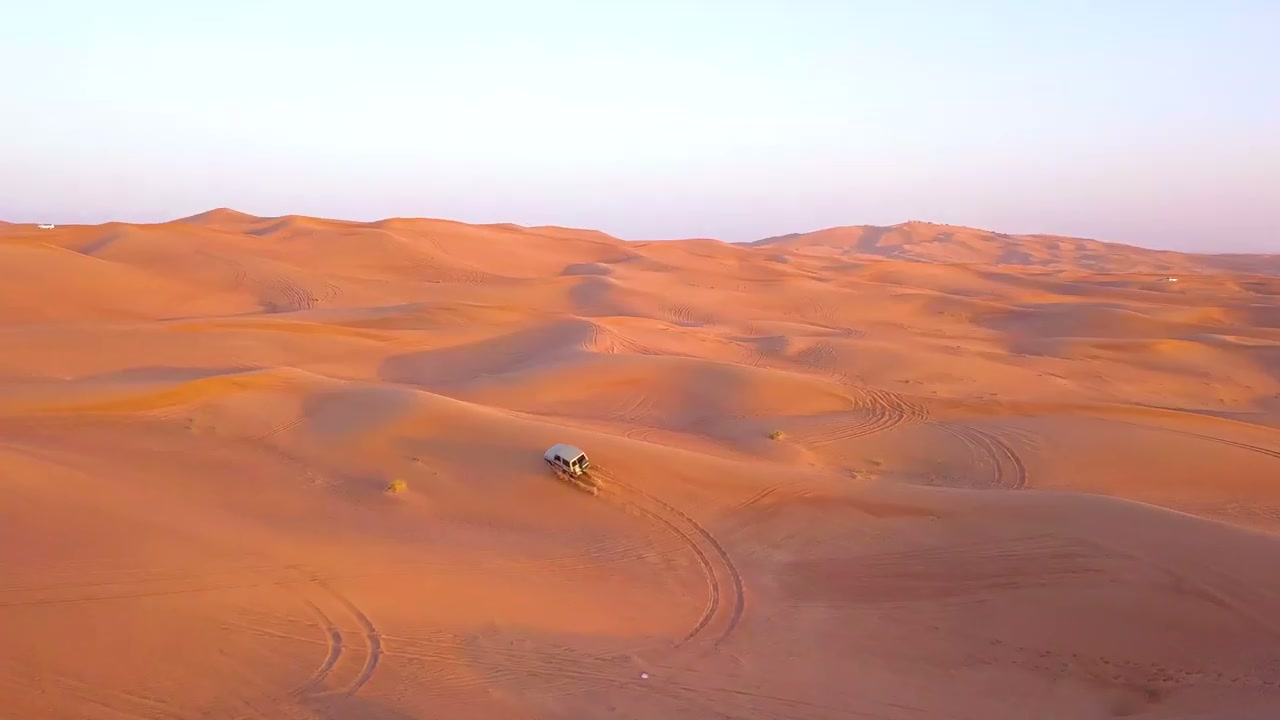vehicle_track: (592, 466, 744, 648), (293, 578, 383, 697), (798, 388, 928, 446), (930, 421, 1027, 489), (1111, 419, 1279, 458), (252, 415, 307, 441)
